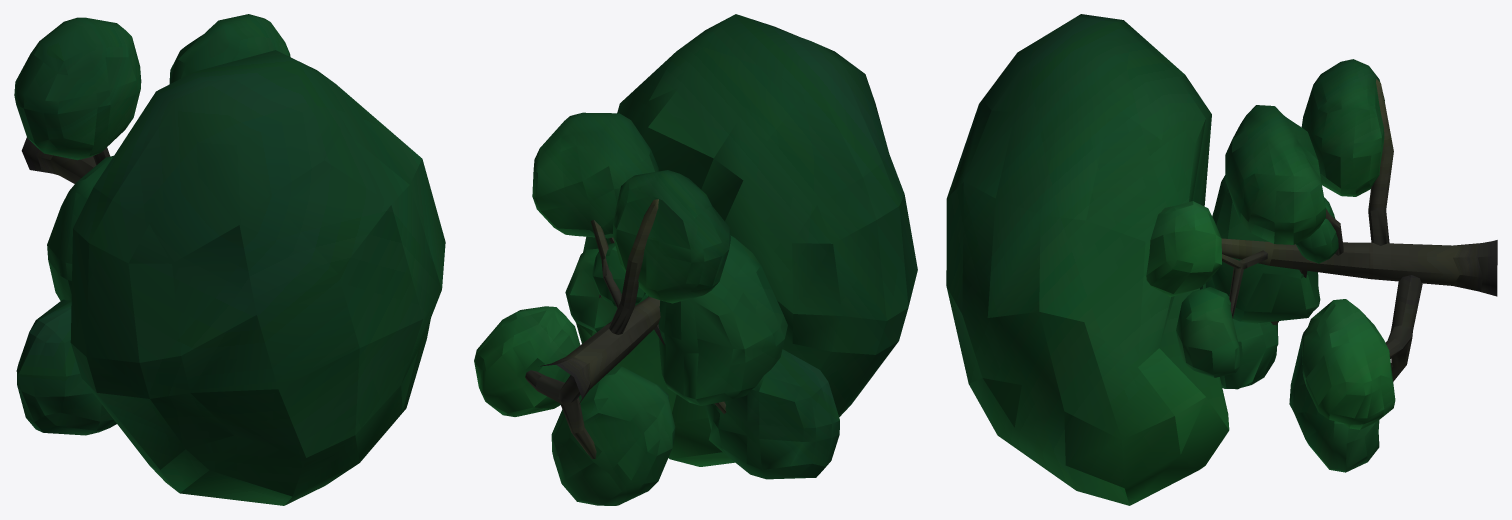
Rendered from kts_004.gltf.
3 renders of one model, left to right at view 1: azimuth 30°, elevation 25°; view 2: azimuth 150°, elevation 25°; view 3: azimuth 270°, elevation 25°, orthographic. The views are drawn at different scales.
Bounding box in the file's own units: 25.7 × 33.5 × 37.28.
Materials: 1 (1 with a texture image).
